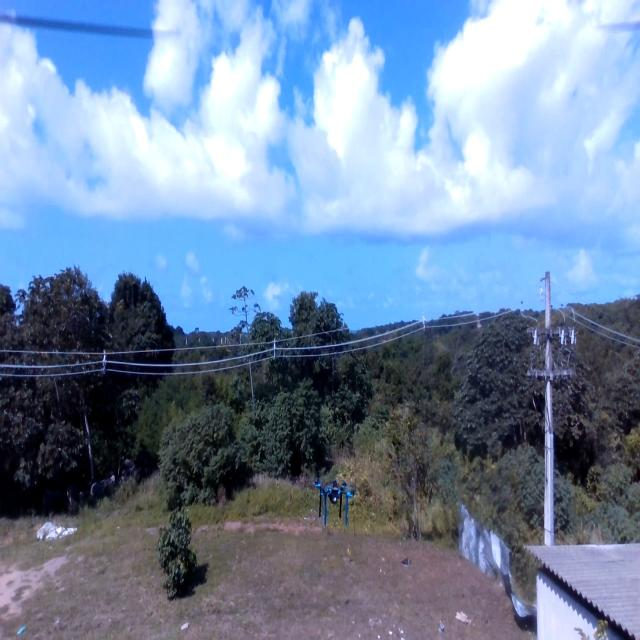-uav-: (313, 475, 357, 529)
